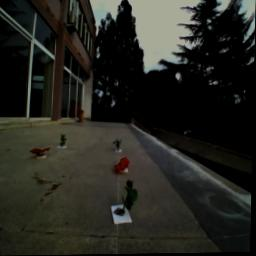herb: (122, 180, 141, 214), (114, 140, 124, 152), (61, 134, 69, 148)
wild: (115, 157, 132, 175), (31, 146, 53, 158)
